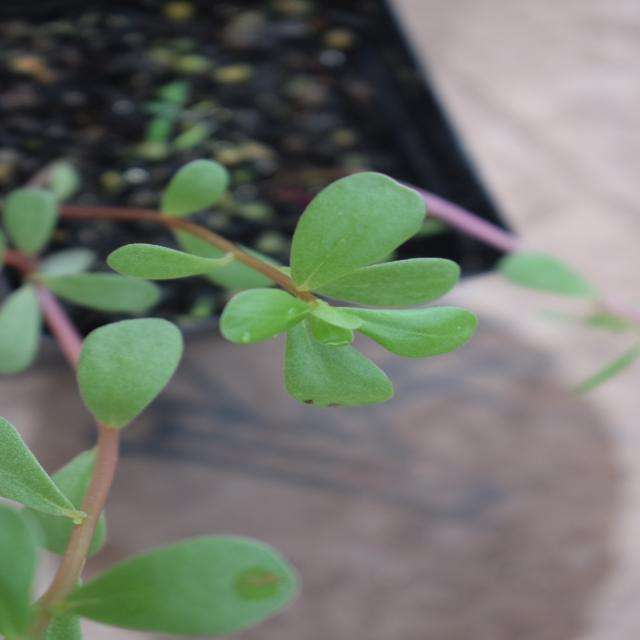purslane: (122, 164, 465, 514)
